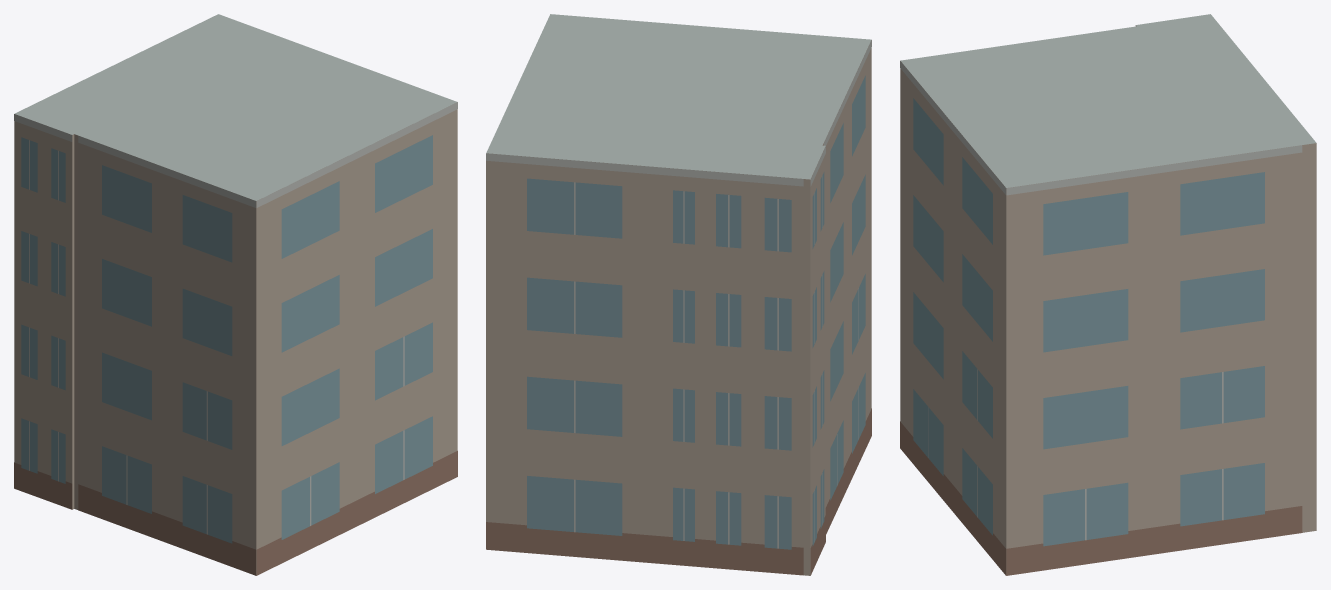
Rendered from survey-upis-32910861.glb.
The picture shows the model from 3 angles, left to right: view 1: azimuth 30°, elevation 25°; view 2: azimuth 150°, elevation 25°; view 3: azimuth 270°, elevation 25°; orthographic projection. The views are drawn at different scales.
Visible parts, largest first — view 1: survey-upis-32910861.tmp; view 2: survey-upis-32910861.tmp; view 3: survey-upis-32910861.tmp.
Part boxes in pixels (box(x1,y1,x2,y2)): survey-upis-32910861.tmp: box(14, 14, 457, 575); survey-upis-32910861.tmp: box(486, 14, 871, 575); survey-upis-32910861.tmp: box(900, 14, 1316, 575).
Bounding box in the file's own units: 12.33 × 12.8 × 12.47.
